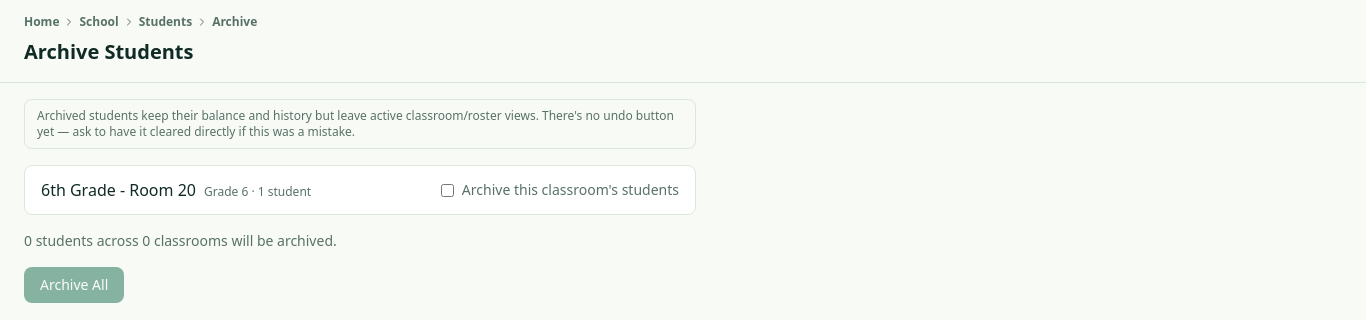
Test: ArchiveStudentsPage › updates the summary when a row is checked
Expected: the text "0 students across 0 classrooms will be archived." is shown, [24, 231, 337, 250]
Step 1. Click the checkbox → (447, 190), box [441, 184, 454, 196]
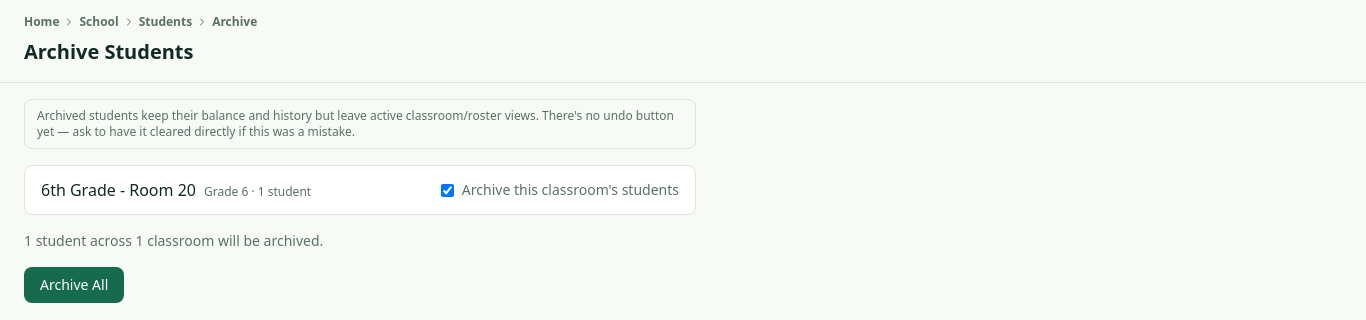
Expected: the text "1 student across 1 classroom will be archived." is shown, [24, 231, 323, 250]
